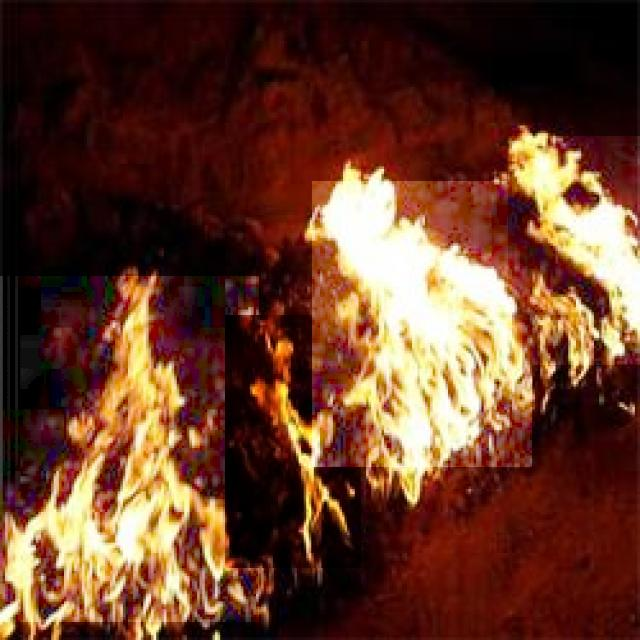Fire: (0, 276, 259, 622), (312, 181, 532, 467), (226, 315, 362, 568), (508, 136, 640, 365)
